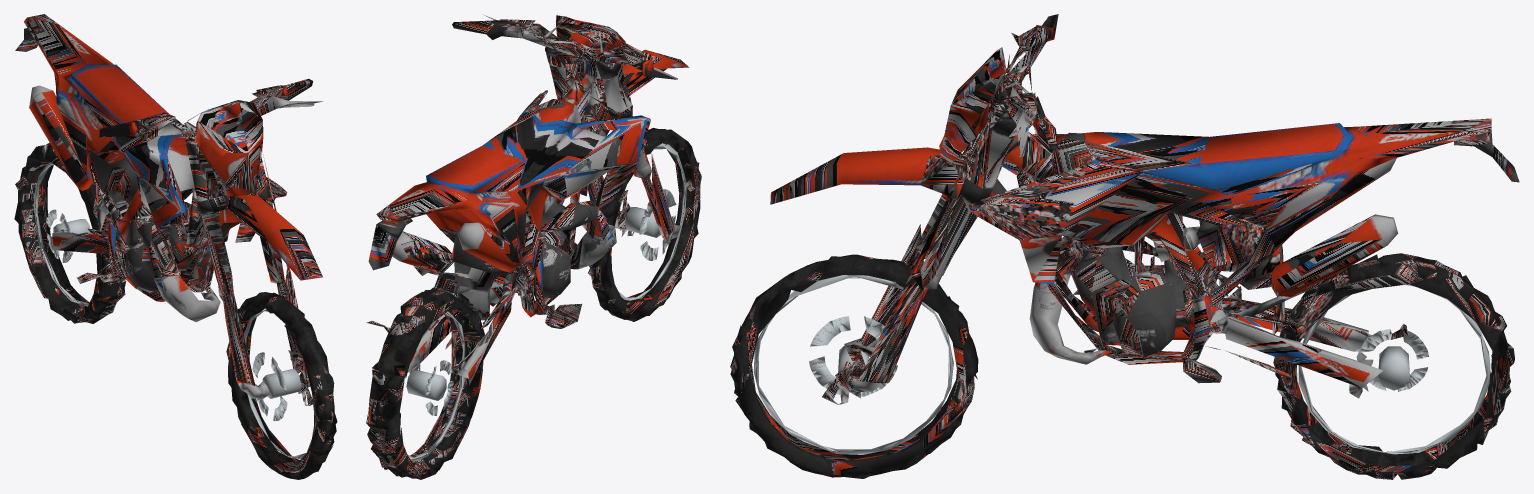
The model's file is tripo-motocross-4000-csVfWGHx.glb.
The picture shows the model from 3 angles, left to right: view 1: azimuth 30°, elevation 25°; view 2: azimuth 150°, elevation 25°; view 3: azimuth 270°, elevation 25°; orthographic projection. The views are drawn at different scales.
Visible parts, largest first — view 1: SM_Tripo_Body, SM_Tripo_Fork, SM_Tripo_WheelFront, SM_Tripo_WheelRear, SM_Tripo_Handlebar, SM_Tripo_WheelFront_CleanSpokes, SM_Tripo_Swingarm_Chain, SM_Tripo_WheelRear_CleanSpokes; view 2: SM_Tripo_Body, SM_Tripo_WheelRear, SM_Tripo_WheelFront, SM_Tripo_Fork, SM_Tripo_Handlebar, SM_Tripo_Swingarm_Chain, SM_Tripo_WheelRear_CleanSpokes, SM_Tripo_WheelFront_CleanSpokes; view 3: SM_Tripo_Body, SM_Tripo_Fork, SM_Tripo_WheelRear, SM_Tripo_WheelFront, SM_Tripo_Swingarm_Chain, SM_Tripo_WheelFront_CleanSpokes, SM_Tripo_WheelRear_CleanSpokes, SM_Tripo_Handlebar.
Boxes of the visible parts, x1,y1,x2,y2 form: SM_Tripo_Body: (15, 14, 285, 321); SM_Tripo_Fork: (119, 85, 323, 405); SM_Tripo_WheelFront: (226, 292, 337, 479); SM_Tripo_WheelRear: (14, 142, 126, 323); SM_Tripo_Handlebar: (99, 78, 313, 160); SM_Tripo_WheelFront_CleanSpokes: (244, 309, 305, 458); SM_Tripo_Swingarm_Chain: (52, 204, 128, 256); SM_Tripo_WheelRear_CleanSpokes: (33, 162, 90, 306); SM_Tripo_Body: (368, 64, 650, 328); SM_Tripo_WheelRear: (366, 287, 488, 479); SM_Tripo_WheelFront: (588, 128, 701, 321); SM_Tripo_Fork: (484, 15, 689, 242); SM_Tripo_Handlebar: (452, 15, 677, 79); SM_Tripo_Swingarm_Chain: (366, 264, 560, 387); SM_Tripo_WheelRear_CleanSpokes: (406, 311, 465, 461); SM_Tripo_WheelFront_CleanSpokes: (618, 143, 686, 300); SM_Tripo_Body: (935, 103, 1519, 383); SM_Tripo_Fork: (770, 26, 1037, 404); SM_Tripo_WheelRear: (1273, 253, 1514, 479); SM_Tripo_WheelFront: (730, 254, 978, 478); SM_Tripo_Swingarm_Chain: (1216, 273, 1407, 398); SM_Tripo_WheelFront_CleanSpokes: (753, 275, 953, 454); SM_Tripo_WheelRear_CleanSpokes: (1298, 284, 1490, 454); SM_Tripo_Handlebar: (950, 14, 1058, 157).
Size of the model in its own units: 1.04 by 1.5 by 2.57.
Materials: 2 (1 with a texture image).
